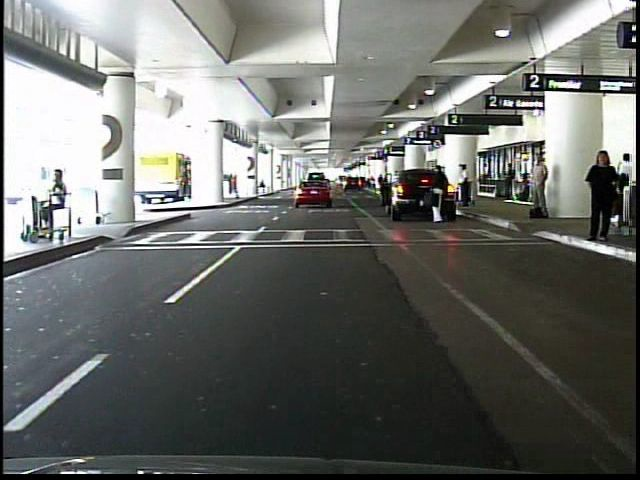person: (23, 165, 70, 241), (584, 148, 620, 247), (610, 153, 633, 217), (430, 164, 447, 225), (456, 165, 471, 210), (504, 162, 517, 201)
